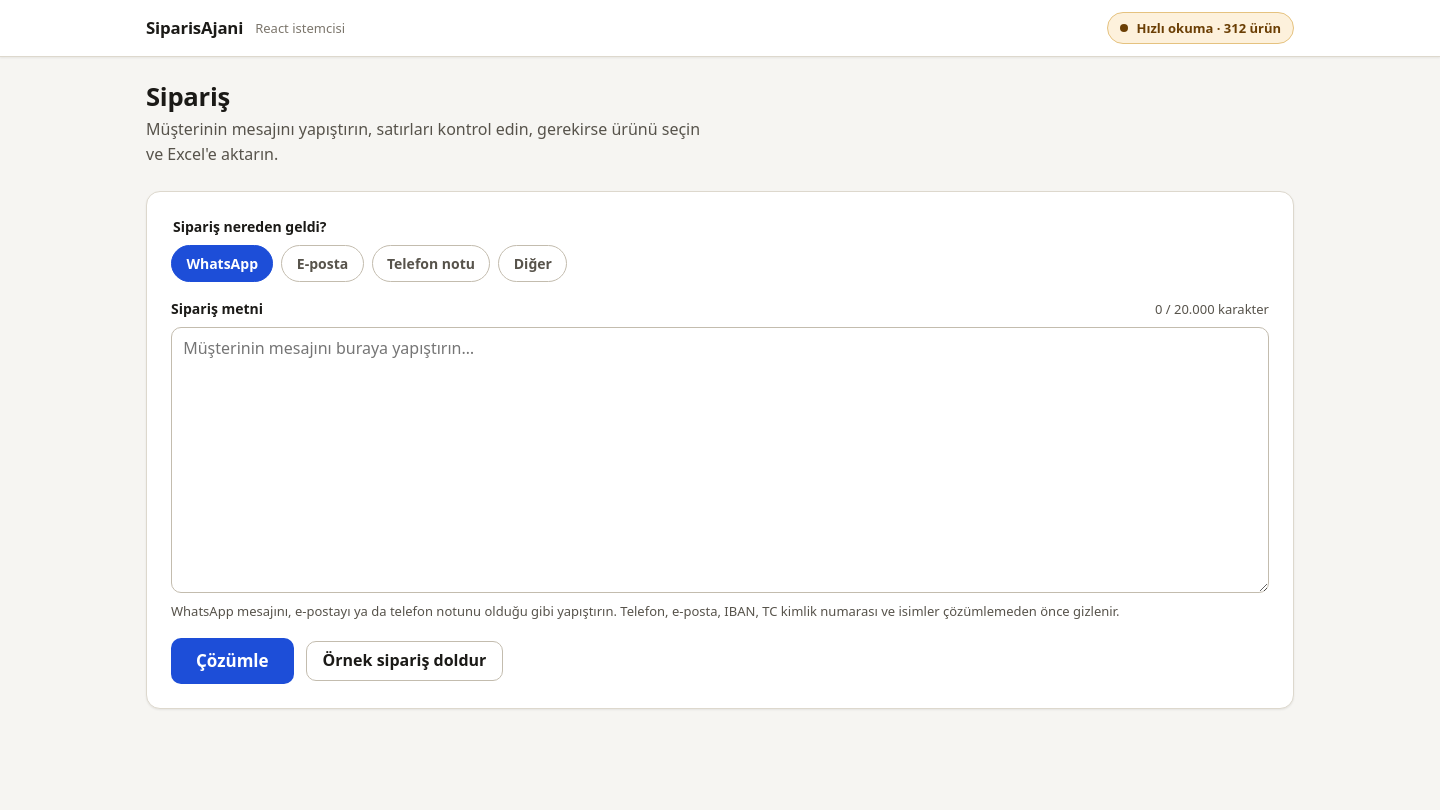
Test: sunucuya ulaşılamazsa ne yapılacağını söyler
The width and height of the screenshot is (1440, 810).
Click the button "Örnek sipariş doldur" at [404, 661], box [306, 641, 503, 681]
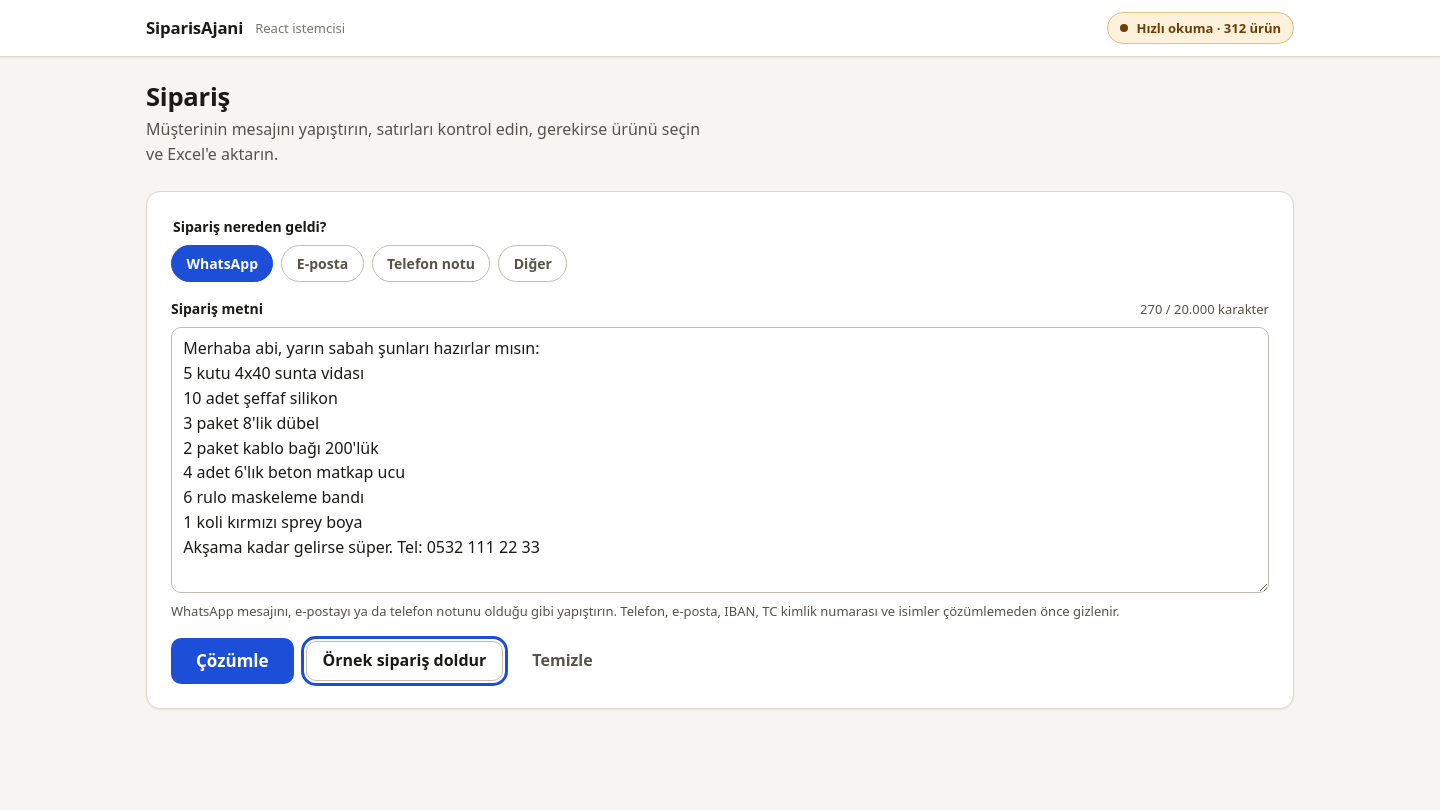
Click the button "Çözümle" at [232, 661], box [171, 638, 294, 684]
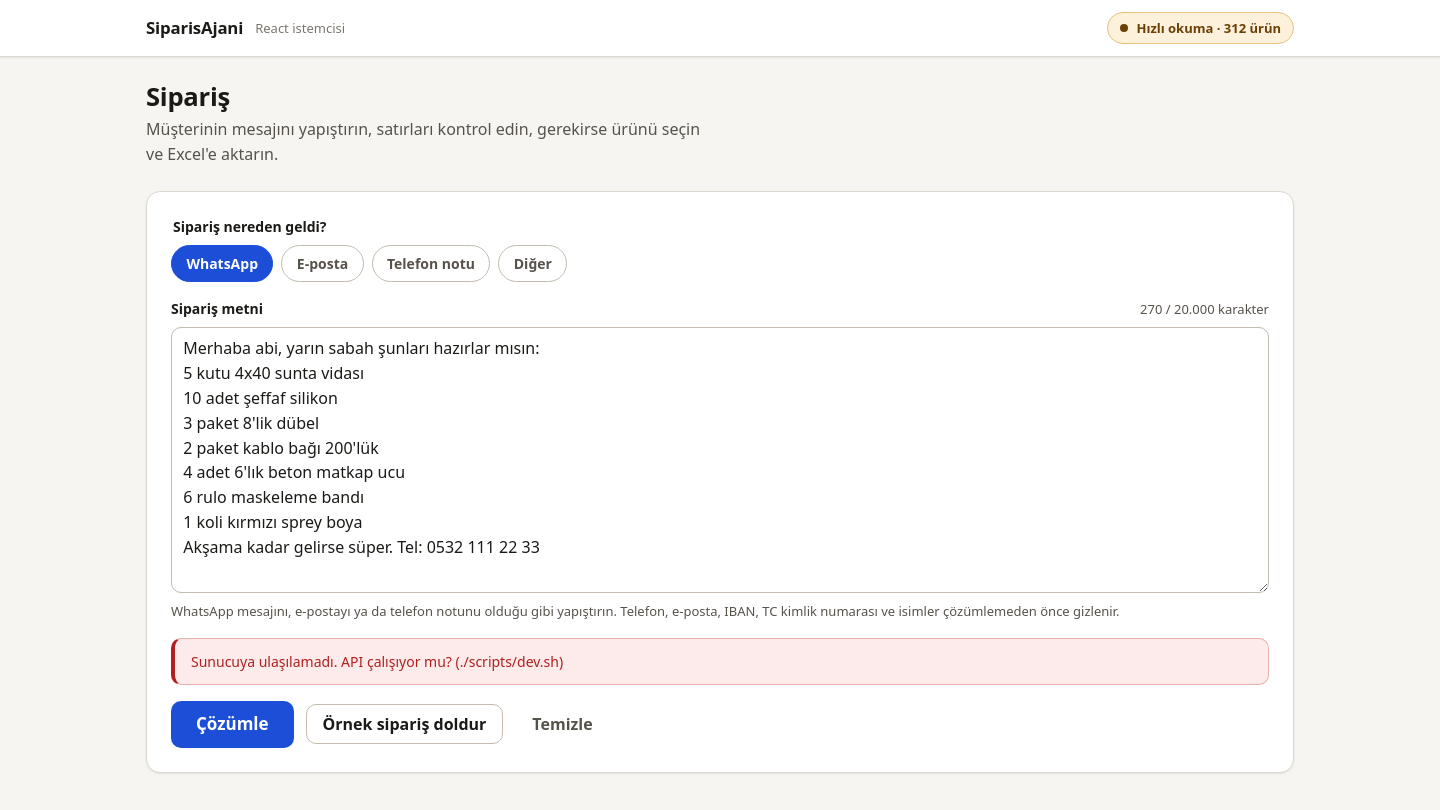
Check: the text "Sunucuya ulaşılamadı. API çalışıyor mu? (./scripts/dev.sh)" is shown, box [191, 652, 563, 670]
